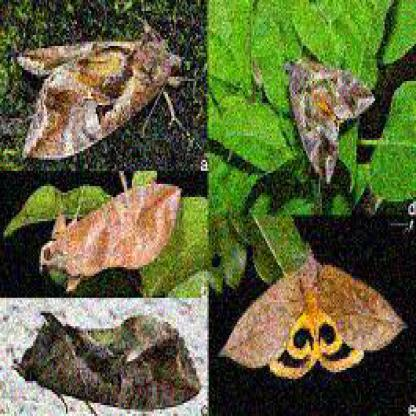fruit sucking moth: (221, 245, 405, 381)
